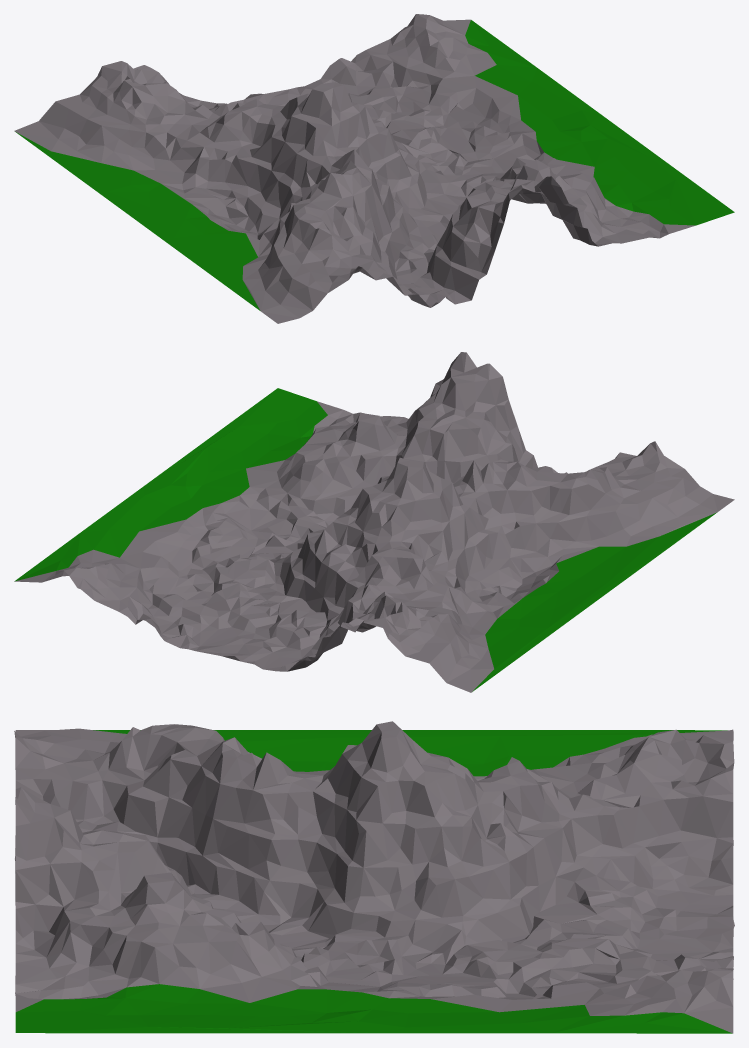
The model's file is Canyon.fbx.
3 views of the same model, one above another, from view 1: azimuth 30°, elevation 25°; view 2: azimuth 150°, elevation 25°; view 3: azimuth 270°, elevation 25° (orthographic). The views are drawn at different scales.
Parts seen in each view (by area): view 1: Landscape; view 2: Landscape; view 3: Landscape.
Boxes of the visible parts, bbox=[...] form: Landscape: bbox=[14, 14, 734, 323]; Landscape: bbox=[14, 352, 734, 692]; Landscape: bbox=[14, 721, 734, 1033].
Bounding box in the file's own units: 200 × 49.82 × 201.
